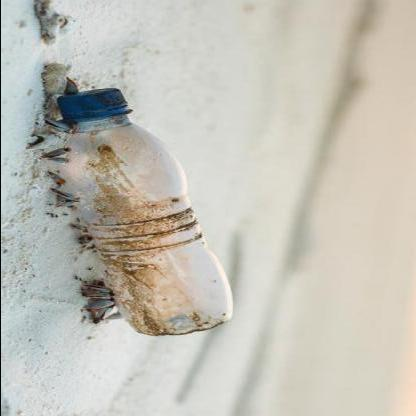bottle: (27, 58, 260, 360)
